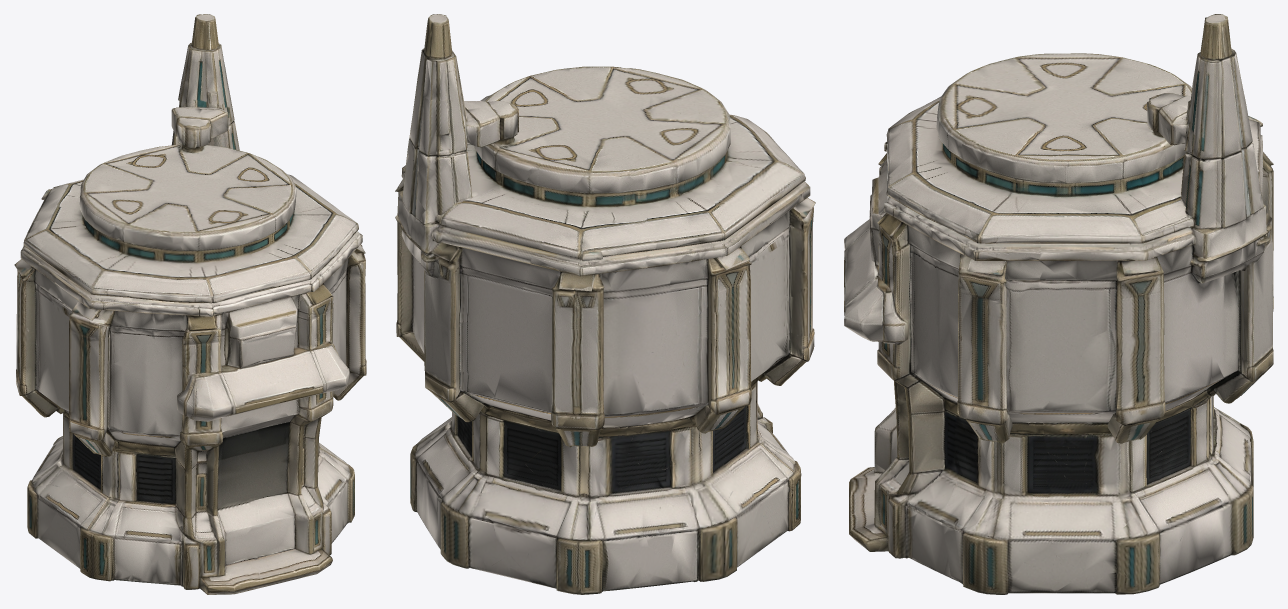
Rendered from conclave.glb.
3 renders of one model, left to right at view 1: azimuth 30°, elevation 25°; view 2: azimuth 150°, elevation 25°; view 3: azimuth 270°, elevation 25°, orthographic. The views are drawn at different scales.
Visible parts, largest first — view 1: mesh_node; view 2: mesh_node; view 3: mesh_node.
Boxes of the visible parts, x1,y1,x2,y2 form: mesh_node: (14, 14, 366, 594); mesh_node: (395, 14, 815, 594); mesh_node: (844, 14, 1273, 594).
Size of the model in its own units: 1.39 by 2 by 1.44.
Materials: 1 (1 with a texture image).
